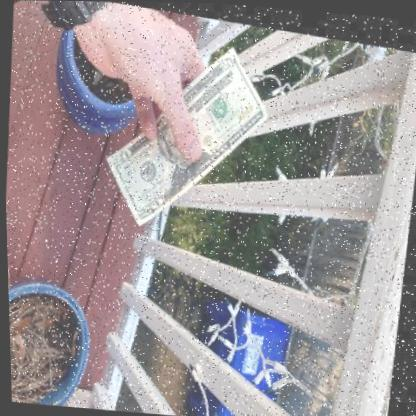twenty-front: (106, 42, 269, 224)
